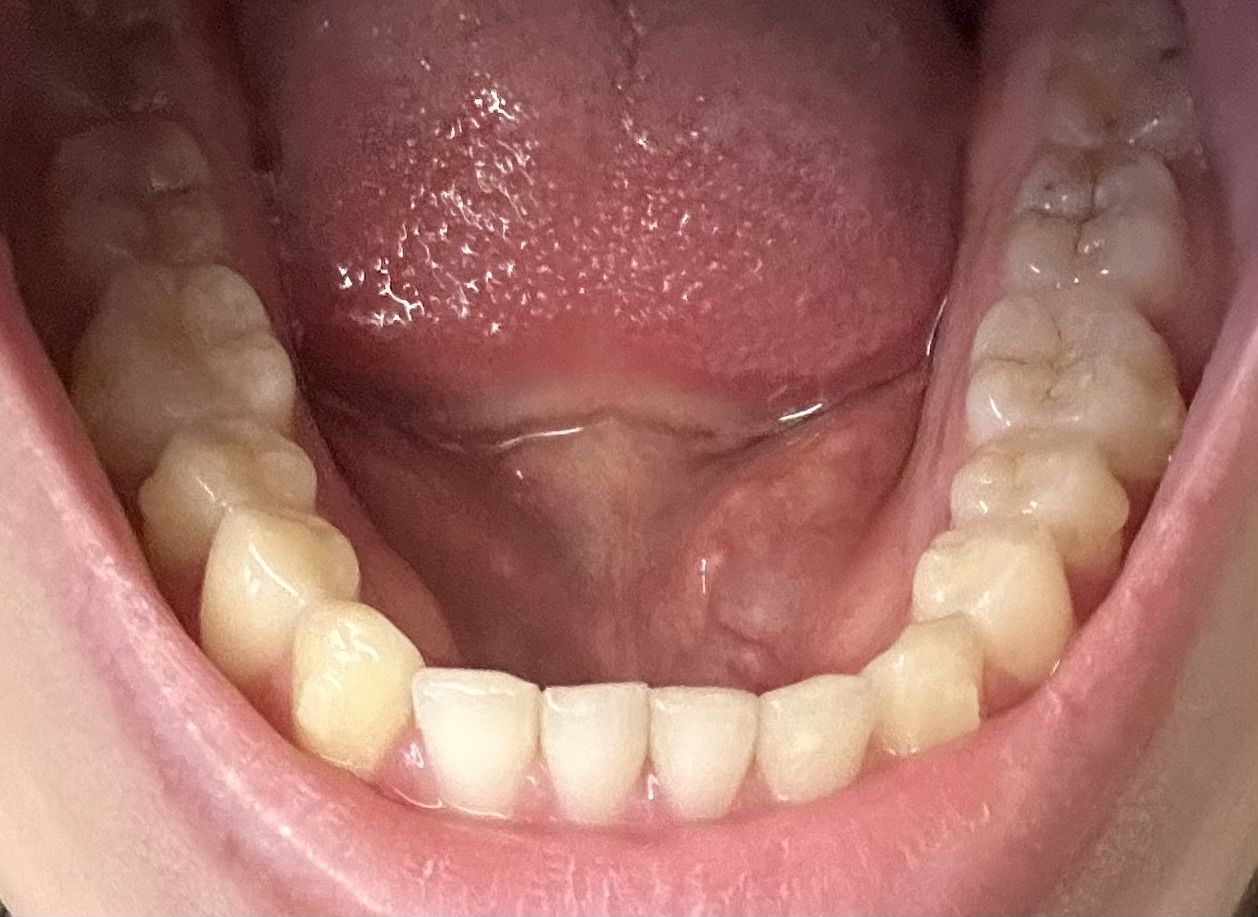teeth: (71, 272, 287, 477), (974, 299, 1173, 473), (22, 120, 218, 291), (999, 155, 1184, 306), (199, 518, 355, 681), (919, 537, 1060, 689), (957, 452, 1120, 578), (295, 612, 416, 769), (151, 441, 315, 536), (538, 688, 646, 832), (421, 682, 532, 813), (656, 696, 757, 817), (772, 684, 874, 802), (877, 642, 980, 753)
